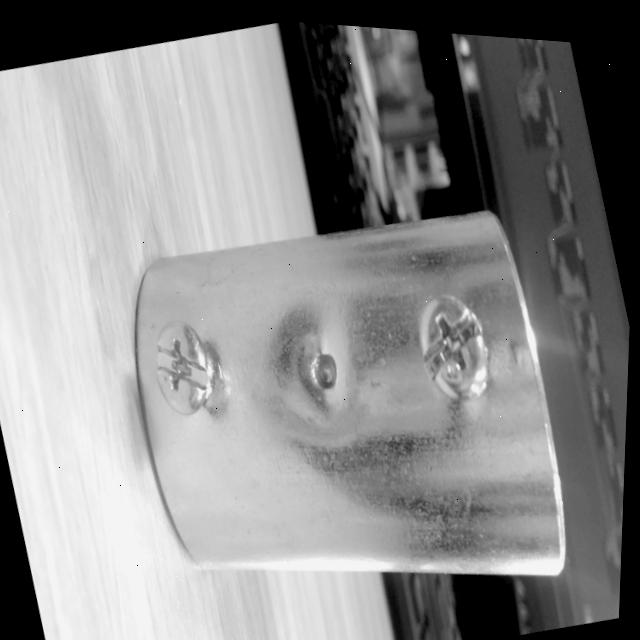Co_Nho: (120, 204, 572, 629)
